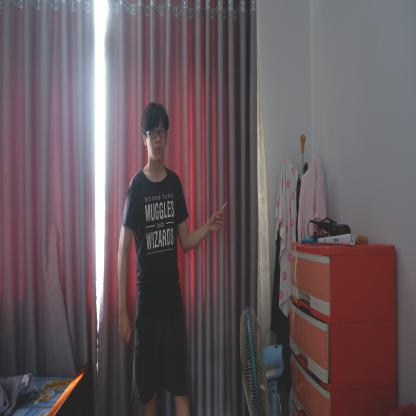cigarette: (218, 201, 228, 215)
person: (116, 101, 196, 415)
